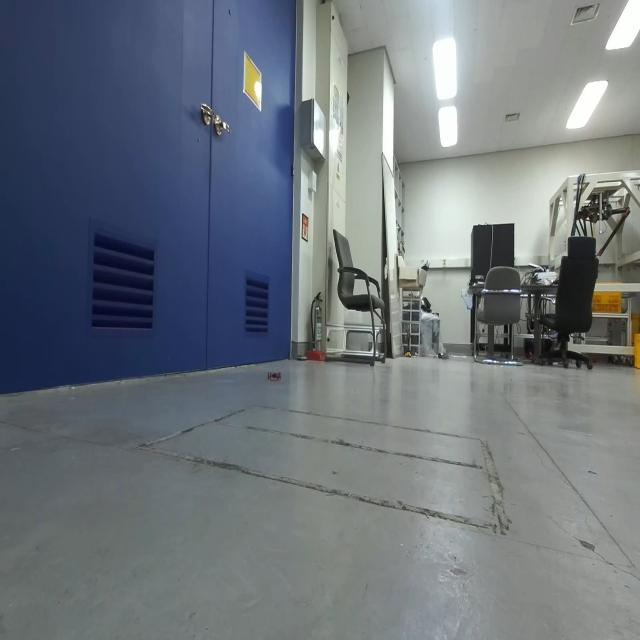crazyflie: (263, 364, 285, 385)
